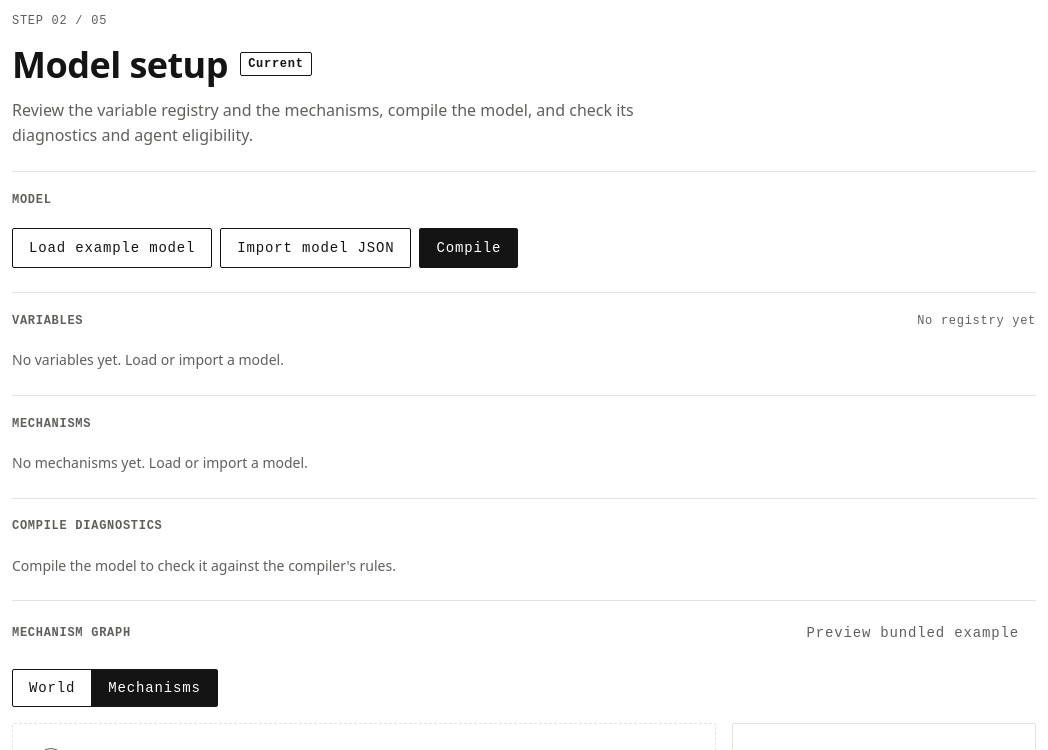
it: Step2ModelSetup › compile › ok: false lists each diagnostic with its chips and leaves the step incomplete
What coordinates should you click on to do the following:
click the button with test id "compile"
I would click on:
 (469, 248)
Its box is [420, 228, 518, 268].
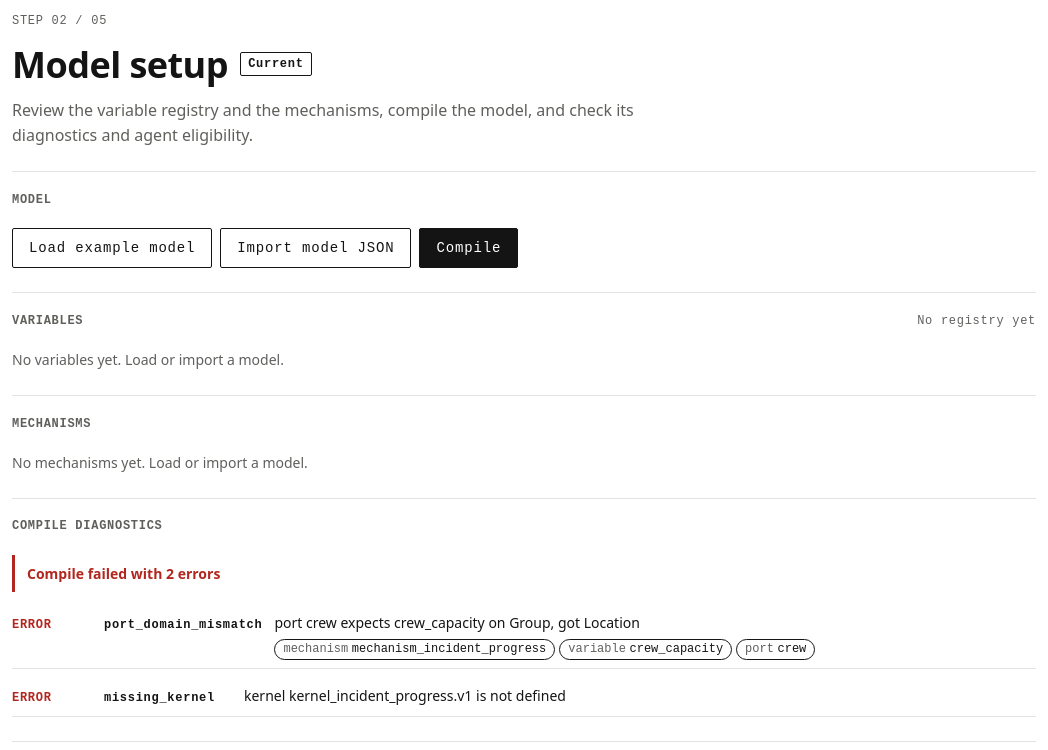
expect the text with test id "compile-failed" reads "Compile failed with 2 errors": met, box [27, 564, 220, 583]
expect the number of list items with test id "diagnostic-row" is 2: met, box [12, 604, 1036, 669]; [12, 677, 1036, 717]
expect the text with test id "diagnostic-code" reads "port_domain_mismatch": met, box [104, 618, 262, 632]
